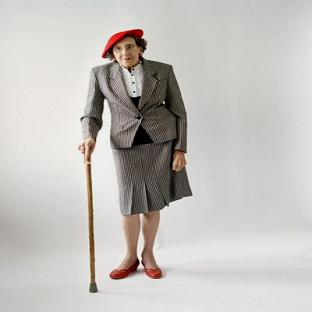Human: (79, 29, 192, 277)
